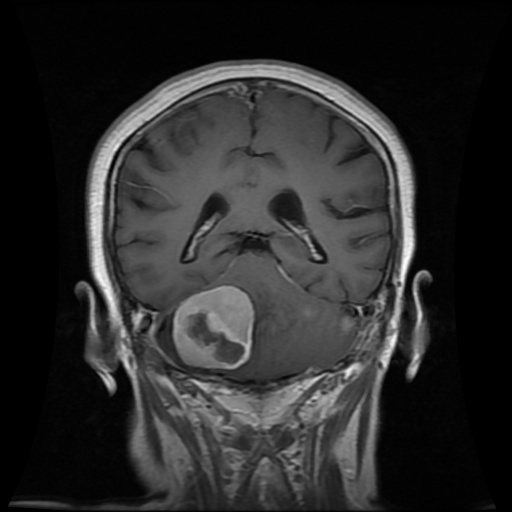meningioma: (172, 284, 255, 367)
